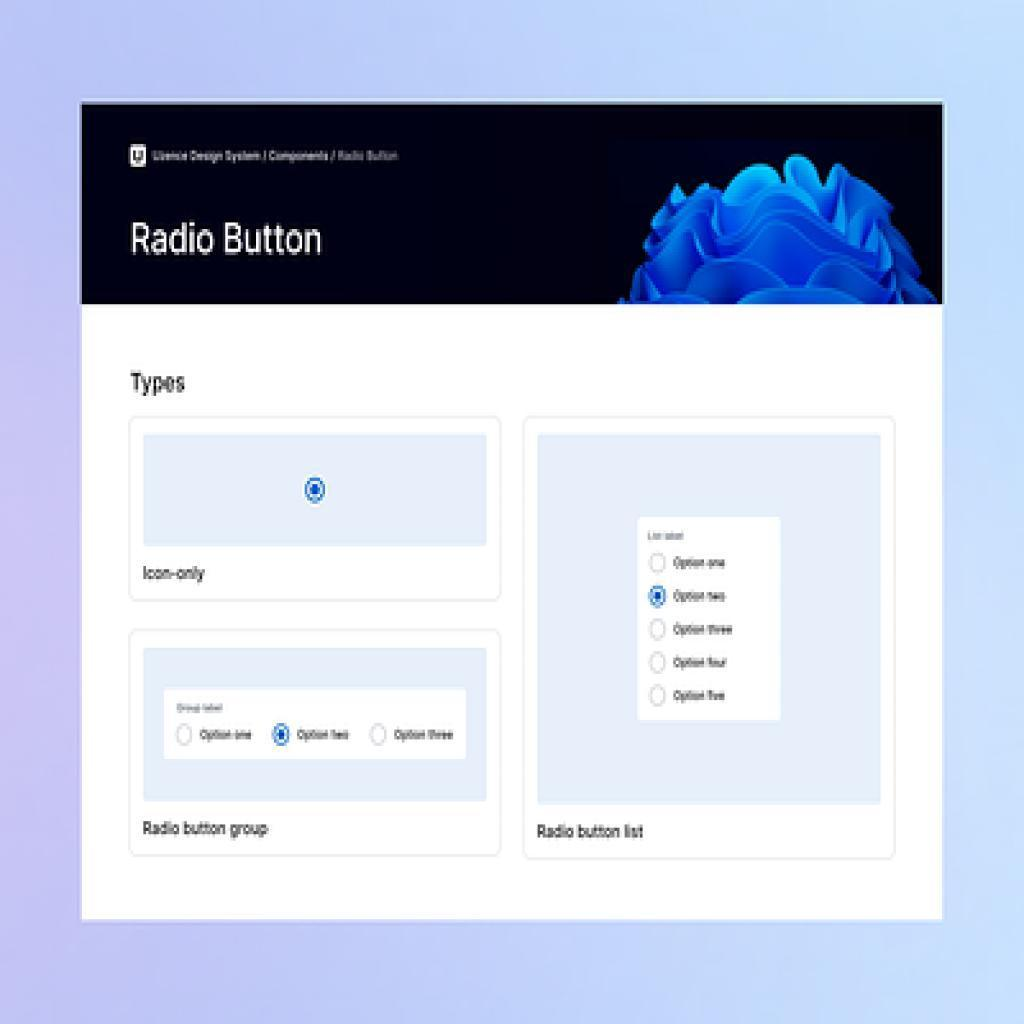radio: (304, 477, 327, 505), (647, 619, 668, 644), (647, 586, 668, 610), (175, 723, 195, 748), (271, 724, 291, 749), (649, 685, 669, 708), (650, 652, 667, 677), (648, 554, 669, 574), (369, 725, 387, 747)
